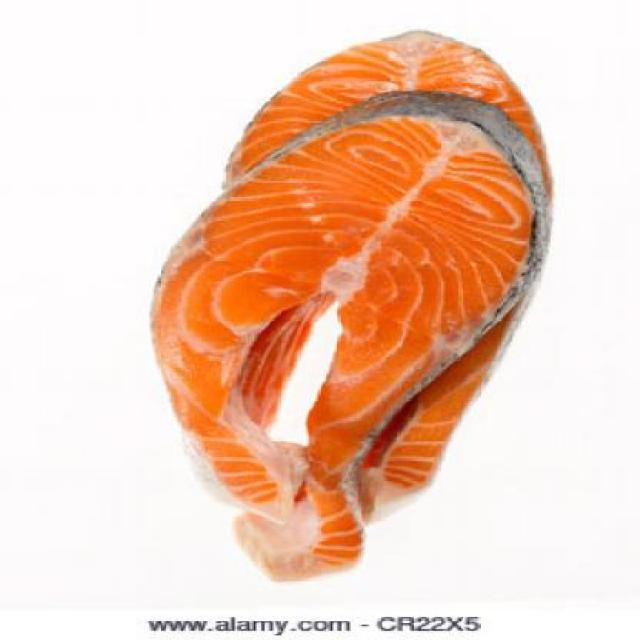salmon: (138, 88, 557, 596), (214, 25, 564, 519)
